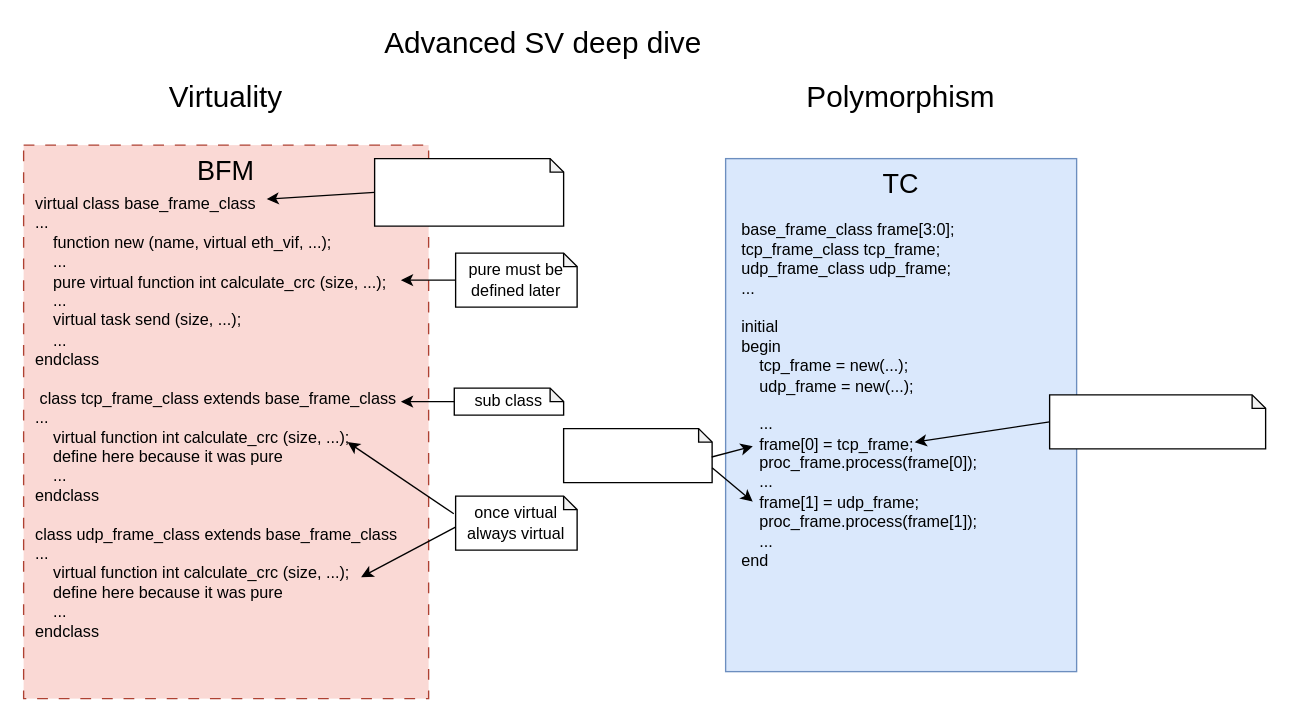
Some shapes in this 1289 by 722 pixel diagram are drawn without their labels. The centre of each missing label's shape, as x and y in pixels:
Abstract temple virtual base class can't be constructed: point (468, 191)
sub-class instance is using parent/base handle: point (1157, 421)
use base type handle everywhere: point (637, 455)
